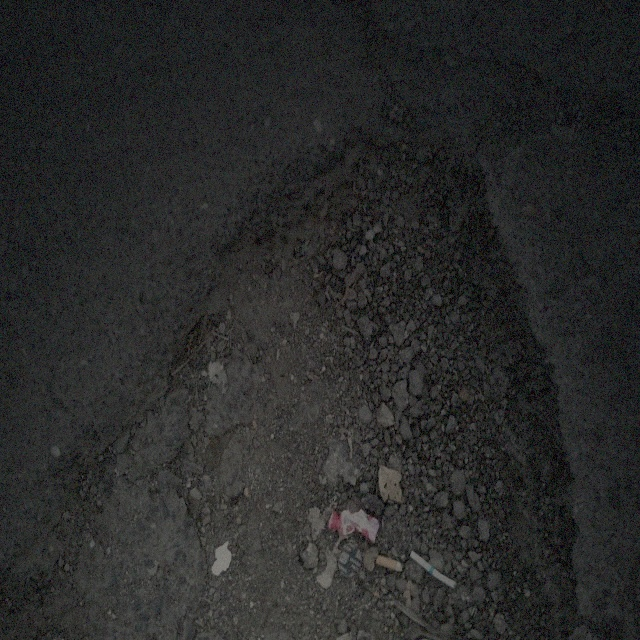pothole: (167, 111, 587, 621), (16, 384, 197, 628)
